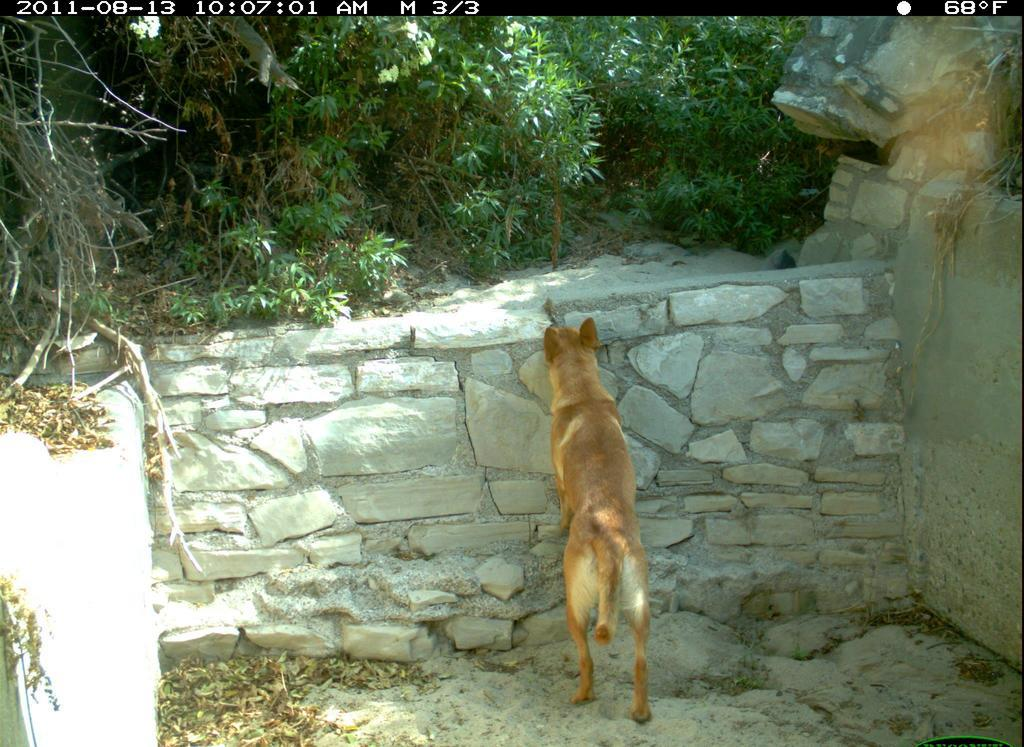dog: (521, 296, 688, 722)
